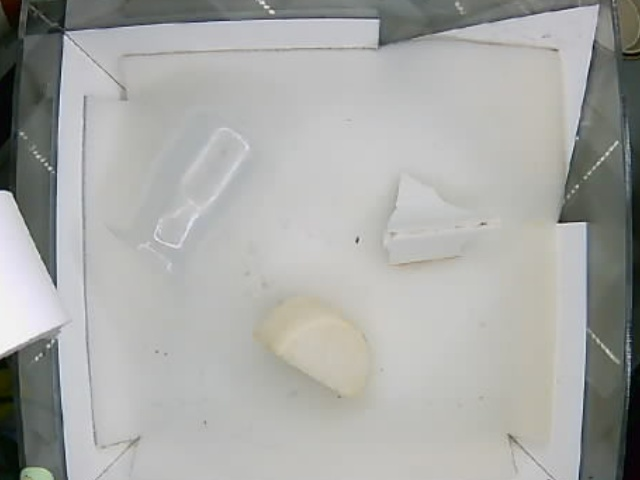Bottle: (104, 117, 263, 282)
China: (383, 173, 500, 265)
Mooli: (254, 298, 374, 392)
